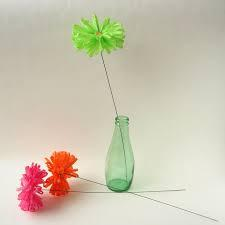Plastic bottle: (102, 109, 142, 196)
Unknown plastic: (16, 144, 86, 220), (61, 14, 139, 73)
